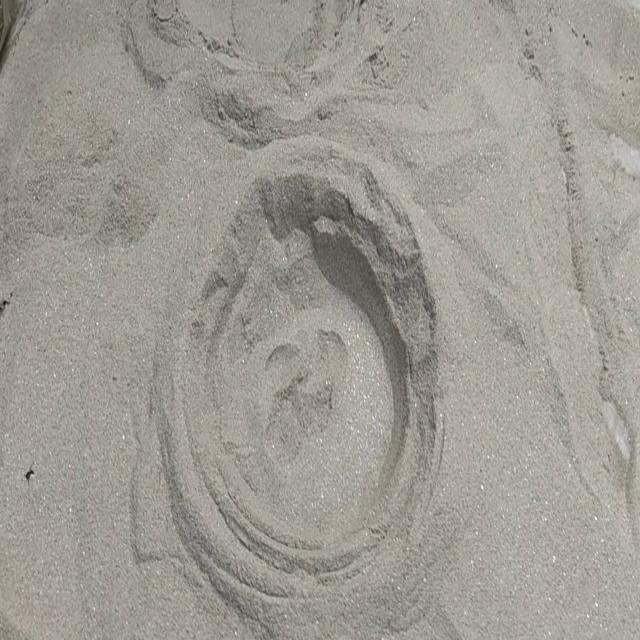C20: (186, 191, 433, 582)
